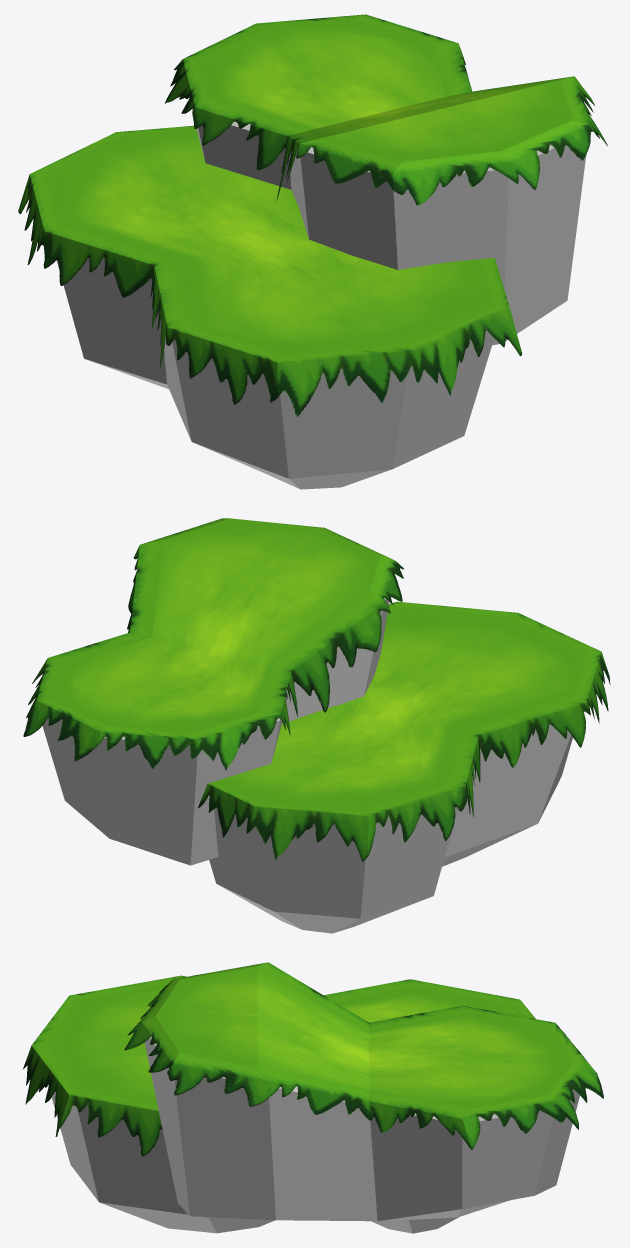
The model's file is Island_Small_05.fbx.
The picture shows the model from 3 angles, top to bottom: view 1: azimuth 30°, elevation 25°; view 2: azimuth 150°, elevation 25°; view 3: azimuth 270°, elevation 25°; orthographic projection. The views are drawn at different scales.
Visible parts, largest first — view 1: Island_Small_05; view 2: Island_Small_05; view 3: Island_Small_05.
Boxes of the visible parts, x1,y1,x2,y2 form: Island_Small_05: (18, 14, 607, 489); Island_Small_05: (23, 518, 610, 933); Island_Small_05: (22, 962, 603, 1233).
Bounding box in the file's own units: 264 × 162 × 322.
